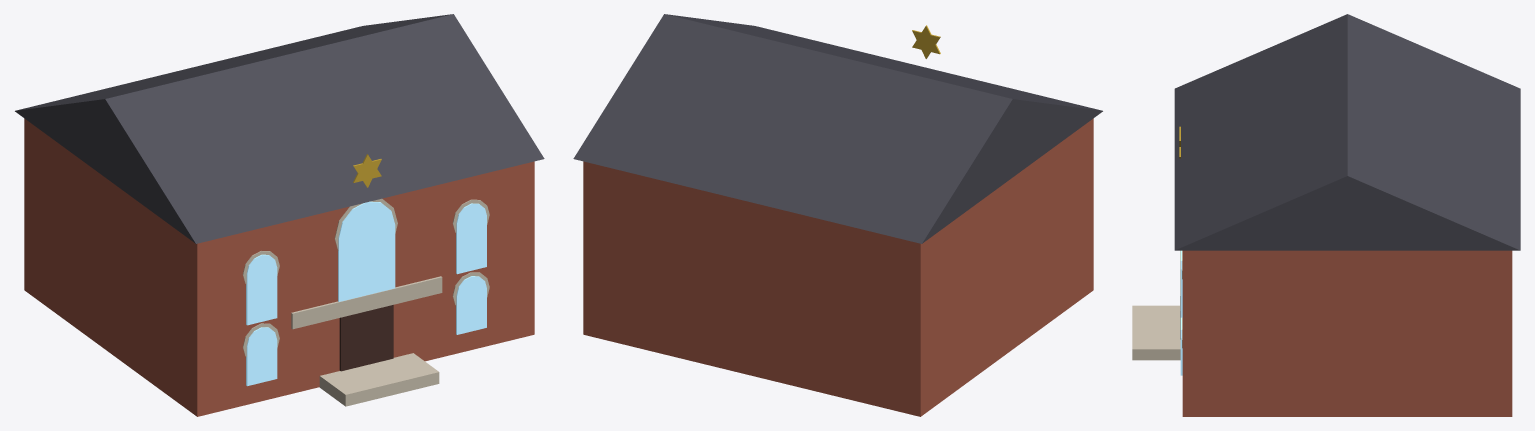
Rendered from town_mw_shul.glb.
3 views of the same model, side by side, from view 1: azimuth 30°, elevation 25°; view 2: azimuth 150°, elevation 25°; view 3: azimuth 270°, elevation 25° (orthographic). The views are drawn at different scales.
Parts seen in each view (by area): view 1: TownMwShul_body; view 2: TownMwShul_body; view 3: TownMwShul_body.
Boxes of the visible parts, <box> form: TownMwShul_body: <box>15,14,544,416</box>; TownMwShul_body: <box>573,14,1102,416</box>; TownMwShul_body: <box>1132,14,1520,416</box>.
Bounding box in the file's own units: 18.6 × 13.05 × 18.85.
